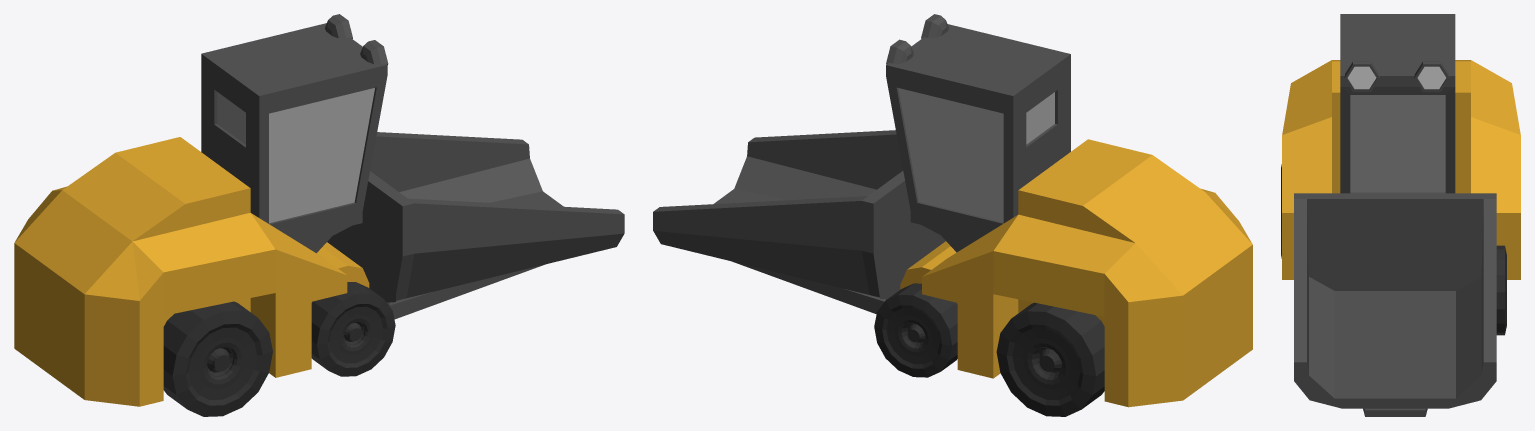
3 views of the same model, side by side, from view 1: azimuth 30°, elevation 25°; view 2: azimuth 150°, elevation 25°; view 3: azimuth 270°, elevation 25° (orthographic).
Parts seen in each view (by area): view 1: C-6, Cube.022, Cylinder.035, Cylinder.038; view 2: C-6, Cube.022, Cylinder.036, Cylinder.039; view 3: Cube.022, C-6, Cylinder.039.
Part boxes in pixels (x1,y1,x2,y2): C-6: (14,14,388,406); Cube.022: (327,132,624,319); Cylinder.035: (163,301,272,416); Cylinder.038: (311,282,395,376); C-6: (886,14,1252,407); Cube.022: (653,130,945,314); Cylinder.036: (996,302,1104,416); Cylinder.039: (874,283,957,377); Cube.022: (1294,193,1496,416); C-6: (1282,14,1520,279); Cylinder.039: (1496,245,1506,335).
Bounding box in the file's own units: 1756 × 955 × 706.
